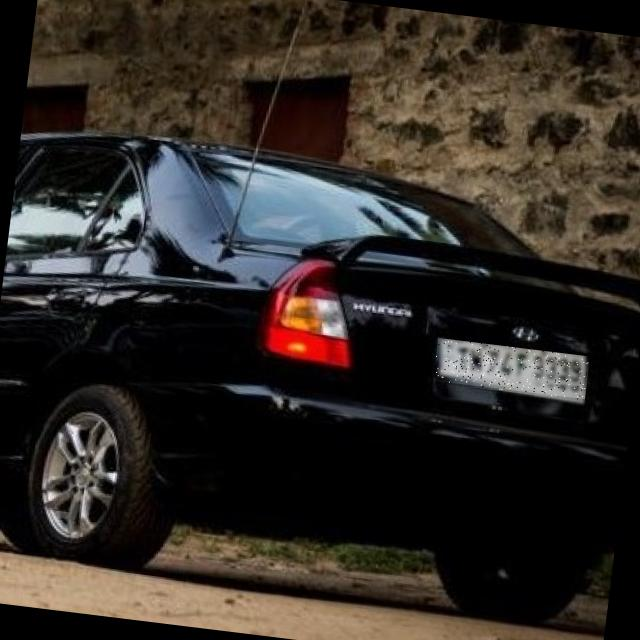Plate: (434, 339, 591, 401)
